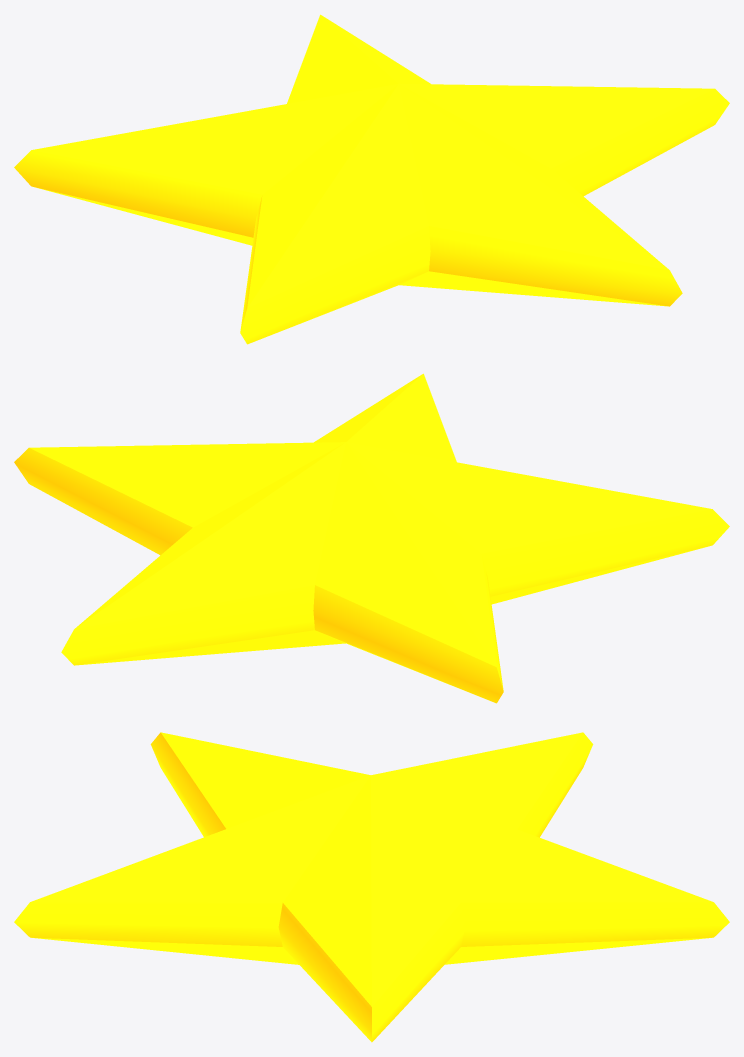
The model's file is Star.fbx.
3 renders of one model, top to bottom at view 1: azimuth 30°, elevation 25°; view 2: azimuth 150°, elevation 25°; view 3: azimuth 270°, elevation 25°, orthographic. The views are drawn at different scales.
Visible parts, largest first — view 1: Star; view 2: Star; view 3: Star.
Boxes of the visible parts, x1=… form: Star: x1=14, y1=14, x2=729, y2=344; Star: x1=14, y1=373, x2=729, y2=703; Star: x1=14, y1=732, x2=729, y2=1042.
Size of the model in its own units: 7568 by 2416 by 7957.
